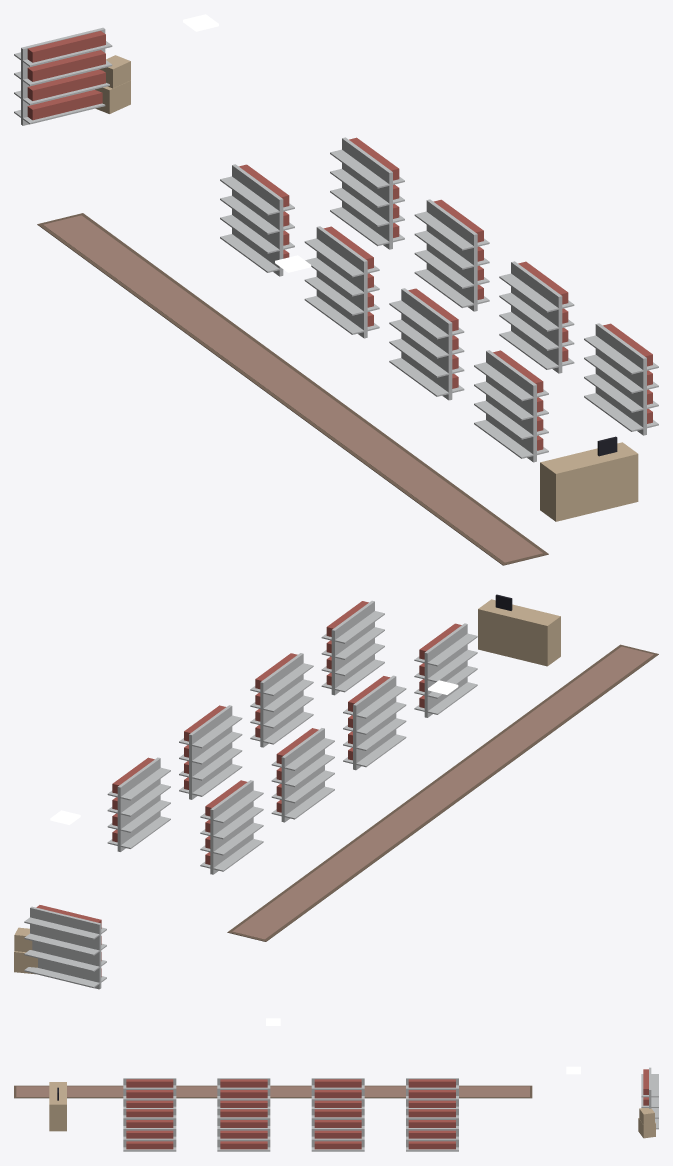
Rendered from fine-s0.glb.
3 renders of one model, top to bottom at view 1: azimuth 30°, elevation 25°; view 2: azimuth 150°, elevation 25°; view 3: azimuth 270°, elevation 25°, orthographic. The views are drawn at different scales.
Visible parts, largest first — view 1: soft-s0, shelving.000, shop-counter.000, shelf.002, shelf.006, shelf.005, shelf.003, shelf.004, shelf.007, shelf.001, shelf.000, cardboard-box.000; view 2: soft-s0, shelving.000, shop-counter.000, shelf.006, shelf.001, shelf.000, shelf.007, shelf.002, shelf.004, shelf.005, shelf.003, cardboard-box.000; view 3: soft-s0, shelf.005, shelf.006, shelf.007, shelf.004, shelf.001, shelf.002, shelf.003, shelf.000, shop-counter.000, shelving.000, cardboard-box.000.
Boxes of the visible parts, x1=… form: soft-s0: x1=37, y1=213, x2=548, y2=565; shelving.000: x1=14, y1=27, x2=112, y2=125; shop-counter.000: x1=540, y1=436, x2=638, y2=521; shelf.002: x1=389, y1=288, x2=464, y2=400; shelf.006: x1=499, y1=261, x2=574, y2=373; shelf.005: x1=414, y1=199, x2=489, y2=311; shelf.003: x1=474, y1=350, x2=548, y2=462; shelf.004: x1=330, y1=137, x2=404, y2=249; shelf.007: x1=584, y1=323, x2=658, y2=435; shelf.001: x1=304, y1=226, x2=379, y2=338; shelf.000: x1=220, y1=164, x2=294, y2=276; cardboard-box.000: x1=95, y1=55, x2=130, y2=113; soft-s0: x1=227, y1=644, x2=658, y2=941; shelving.000: x1=24, y1=905, x2=106, y2=989; shop-counter.000: x1=478, y1=594, x2=560, y2=666; shelf.006: x1=250, y1=653, x2=313, y2=747; shelf.001: x1=271, y1=728, x2=334, y2=822; shelf.000: x1=200, y1=780, x2=263, y2=874; shelf.007: x1=321, y1=600, x2=384, y2=695; shelf.002: x1=343, y1=675, x2=406, y2=770; shelf.004: x1=107, y1=757, x2=170, y2=851; shelf.005: x1=179, y1=705, x2=242, y2=799; shelf.003: x1=414, y1=623, x2=477, y2=717; cardboard-box.000: x1=14, y1=927, x2=37, y2=974; soft-s0: x1=14, y1=1085, x2=532, y2=1098; shelf.005: x1=311, y1=1108, x2=364, y2=1151; shelf.006: x1=217, y1=1108, x2=270, y2=1151; shelf.007: x1=123, y1=1108, x2=176, y2=1151; shelf.004: x1=406, y1=1108, x2=458, y2=1151; shelf.001: x1=311, y1=1078, x2=364, y2=1107; shelf.002: x1=217, y1=1078, x2=270, y2=1107; shelf.003: x1=123, y1=1078, x2=176, y2=1107; shelf.000: x1=406, y1=1078, x2=458, y2=1107; shop-counter.000: x1=49, y1=1082, x2=66, y2=1131; shelving.000: x1=641, y1=1067, x2=658, y2=1129; cardboard-box.000: x1=638, y1=1108, x2=655, y2=1138.
Size of the model in its own units: 5.55 by 2.65 by 21.91.
